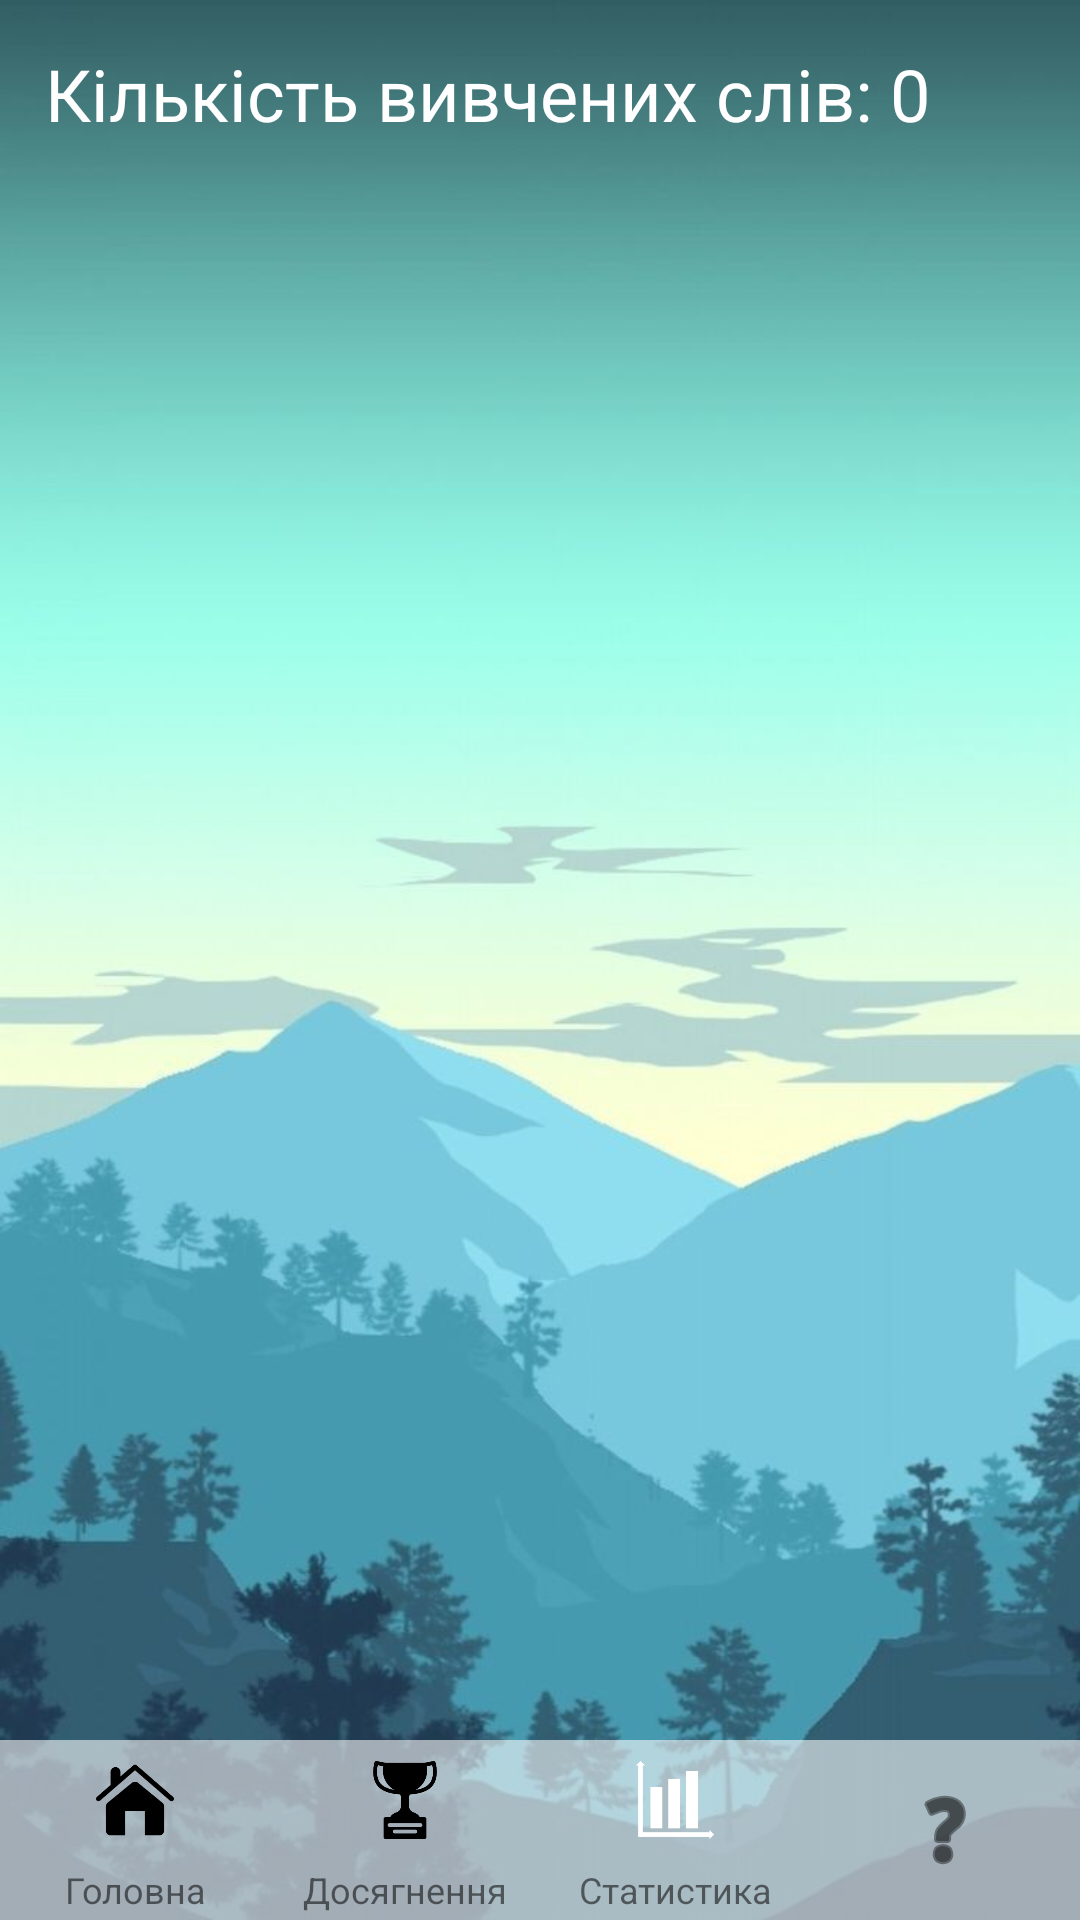

Locate icon controls on the screen. Image size 1080x1920, boxes as (x1, y1, x2, y2).
help: (924, 1796, 966, 1865)
kubok: (373, 1750, 465, 1839)
